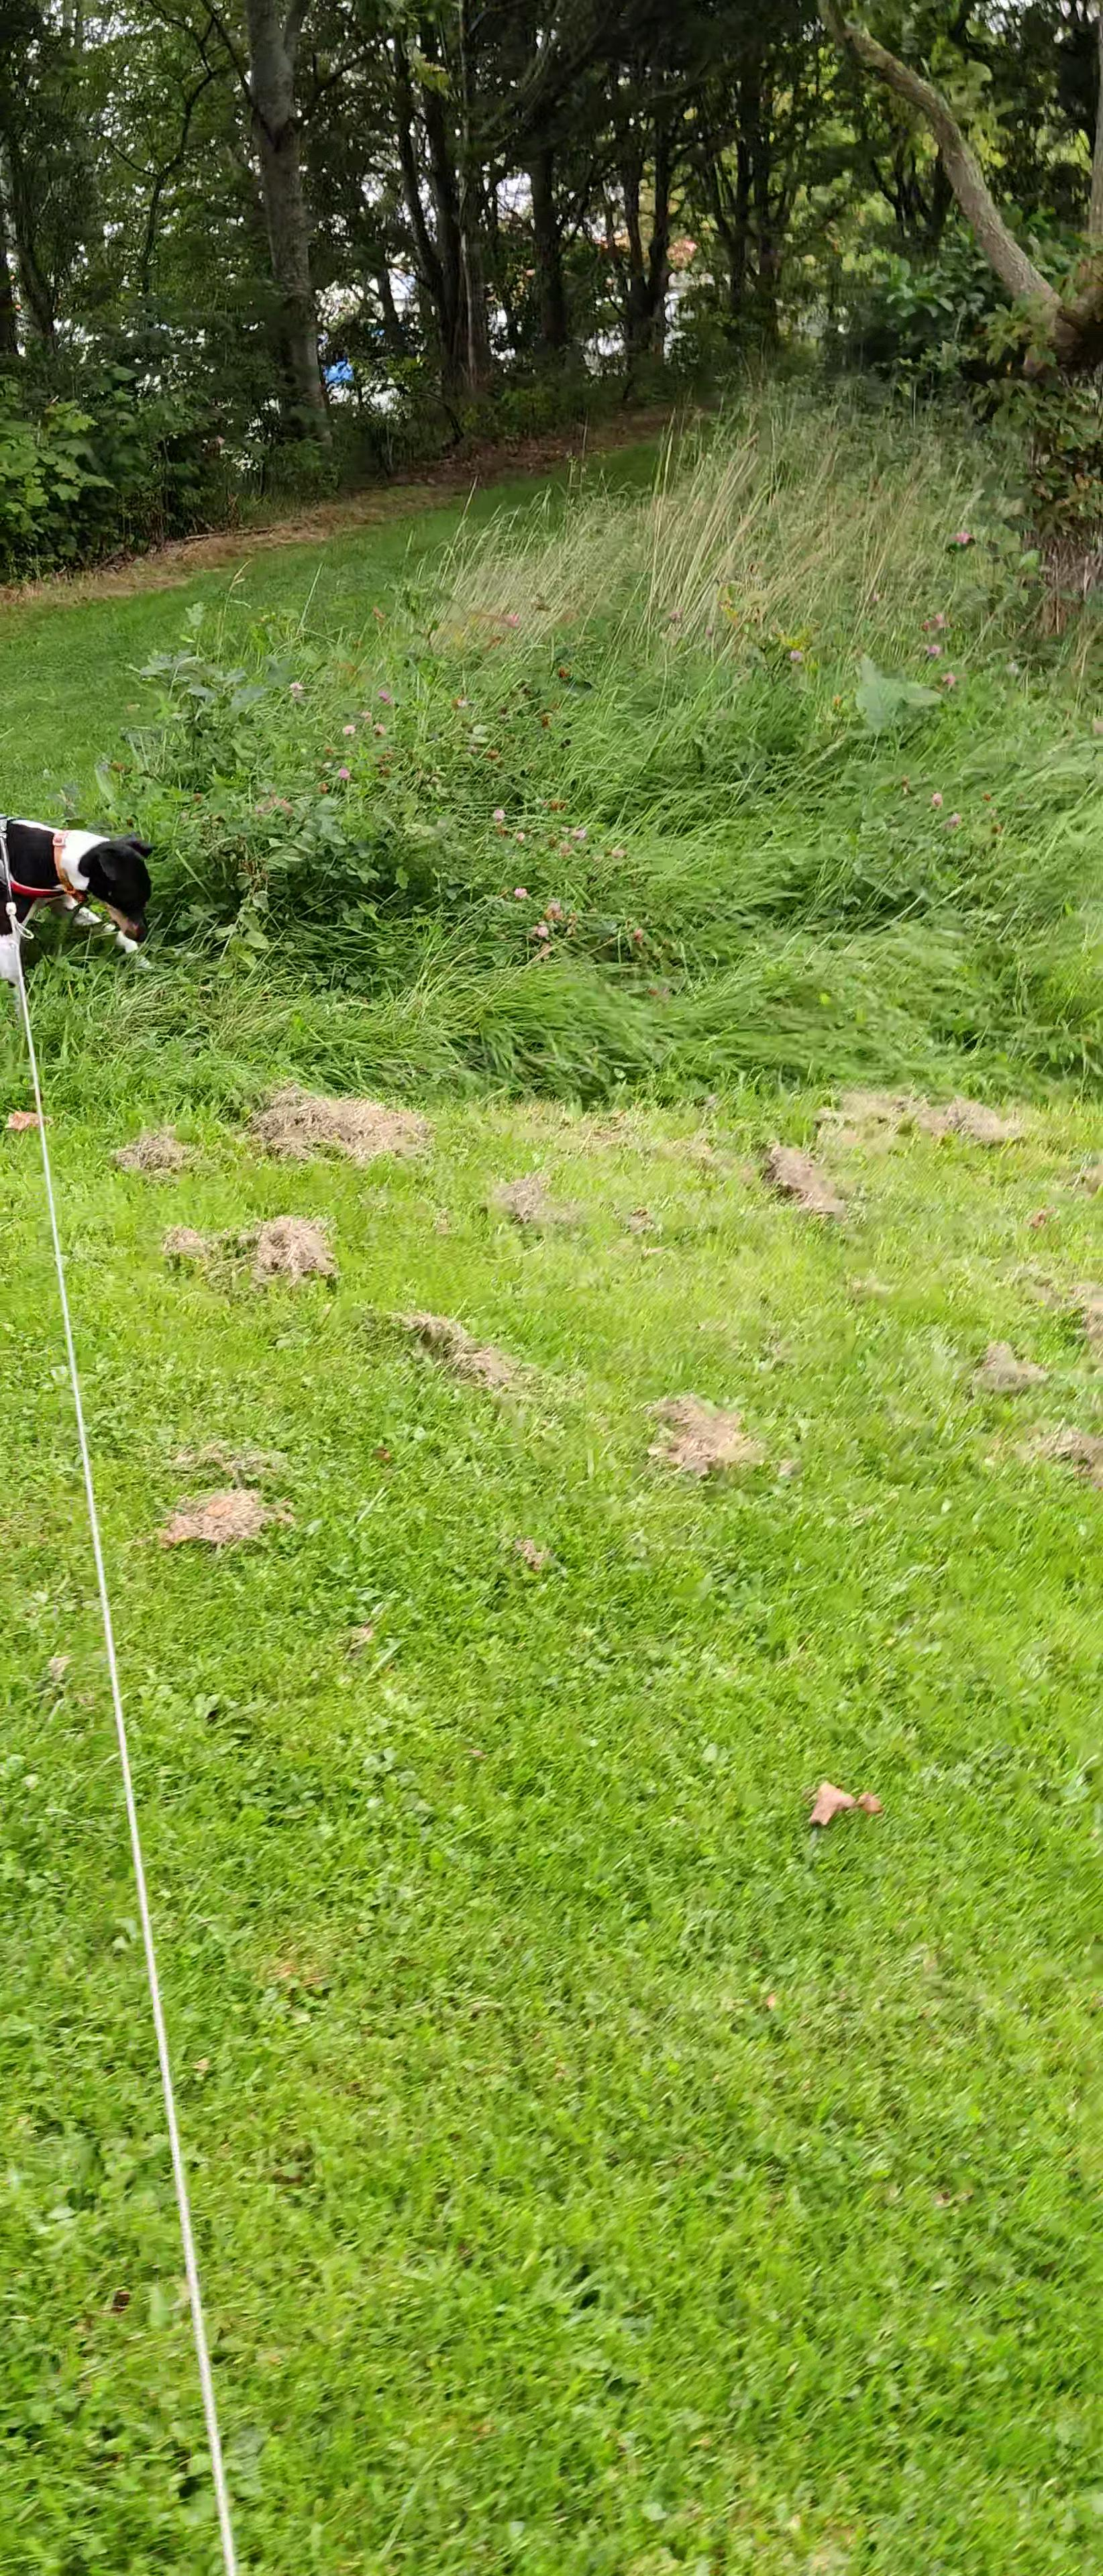Dog: (0, 805, 169, 1023)
